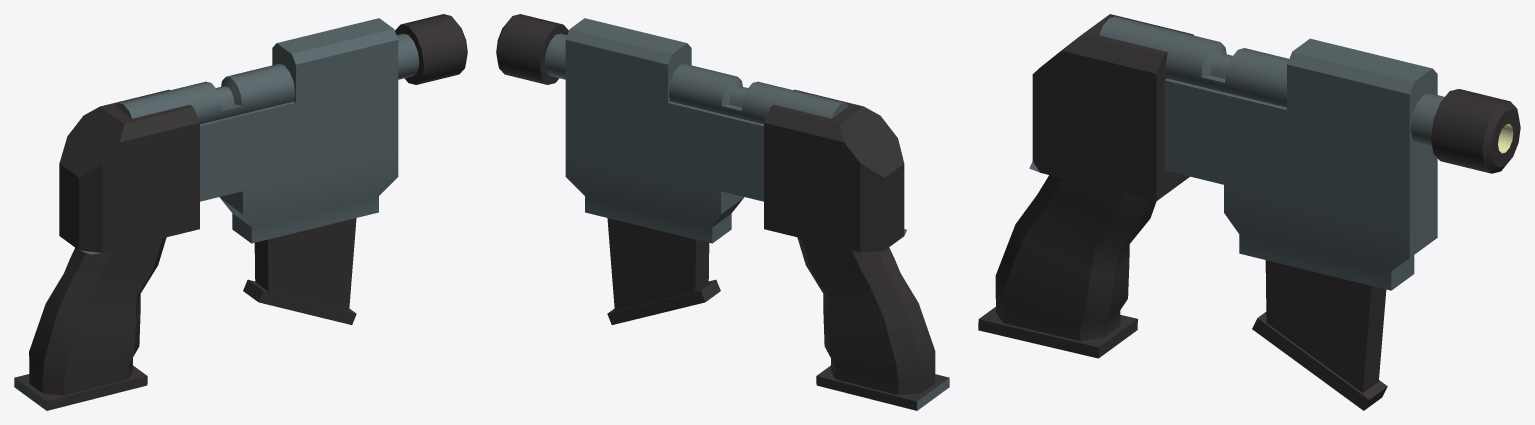
Rendered from gun.glb.
3 renders of one model, left to right at view 1: azimuth 30°, elevation 25°; view 2: azimuth 150°, elevation 25°; view 3: azimuth 330°, elevation 25°, orthographic. The views are drawn at different scales.
Visible parts, largest first — view 1: SubMesh_0.001; view 2: SubMesh_0.001; view 3: SubMesh_0.001.
Boxes of the visible parts, left/top/right/bottom form: SubMesh_0.001: left=14, top=14, right=467, bottom=410; SubMesh_0.001: left=496, top=14, right=949, bottom=410; SubMesh_0.001: left=978, top=14, right=1520, bottom=410.
Bounding box in the file's own units: 0.3717 × 0.2412 × 0.0552.
Materials: 1 (1 with a texture image).
